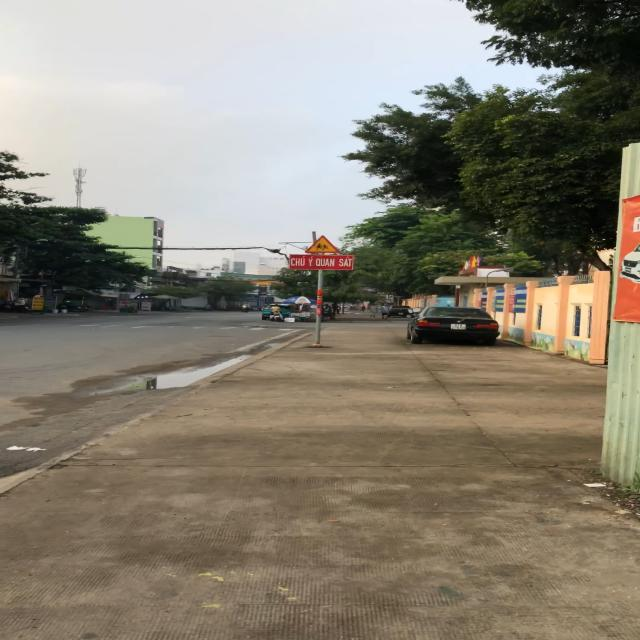Bien bao tre em: (302, 234, 340, 254)
